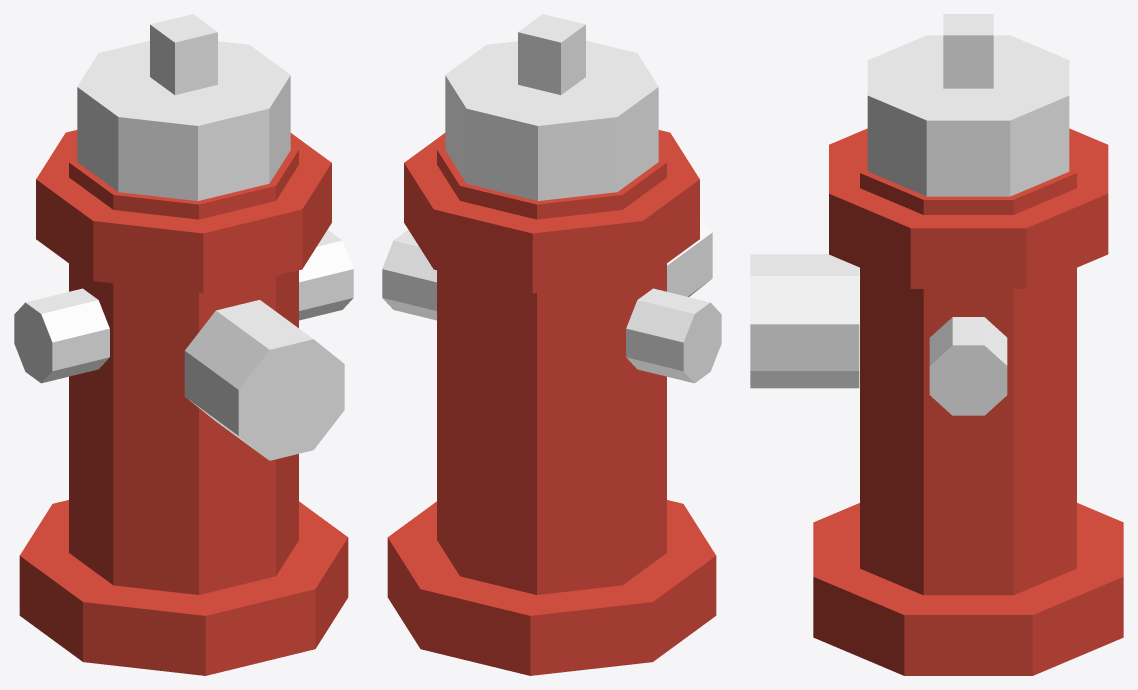
Rendered from hydrant.glb.
3 views of the same model, side by side, from view 1: azimuth 30°, elevation 25°; view 2: azimuth 150°, elevation 25°; view 3: azimuth 270°, elevation 25° (orthographic).
Visible parts, largest first — view 1: hydrant; view 2: hydrant; view 3: hydrant.
Boxes of the visible parts, x1,y1,x2,y2 form: hydrant: [14, 14, 353, 675]; hydrant: [382, 14, 721, 675]; hydrant: [750, 14, 1123, 675].
Bounding box in the file's own units: 0.42 × 0.77 × 0.4448.
